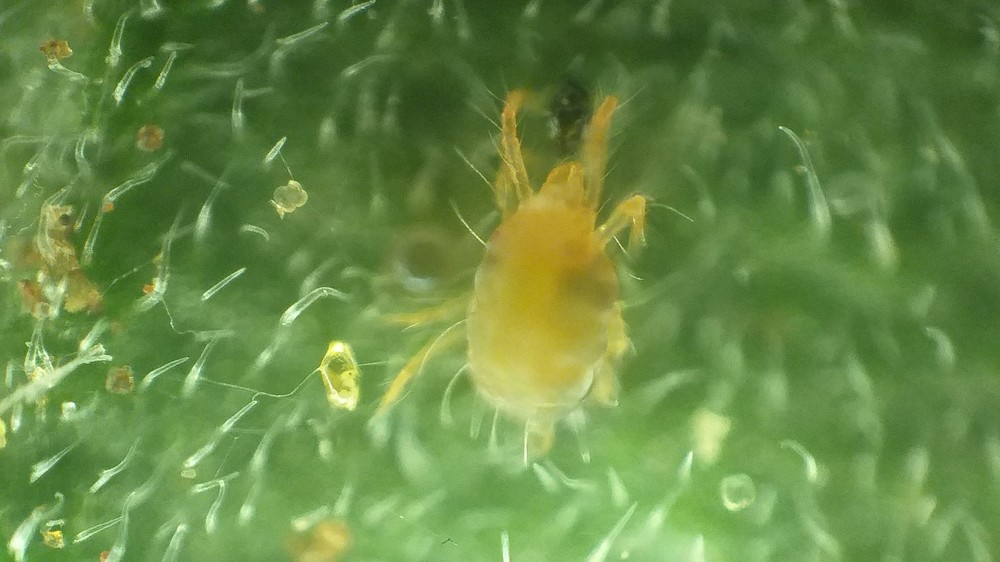Aracnido Rojo: (395, 90, 687, 483)
